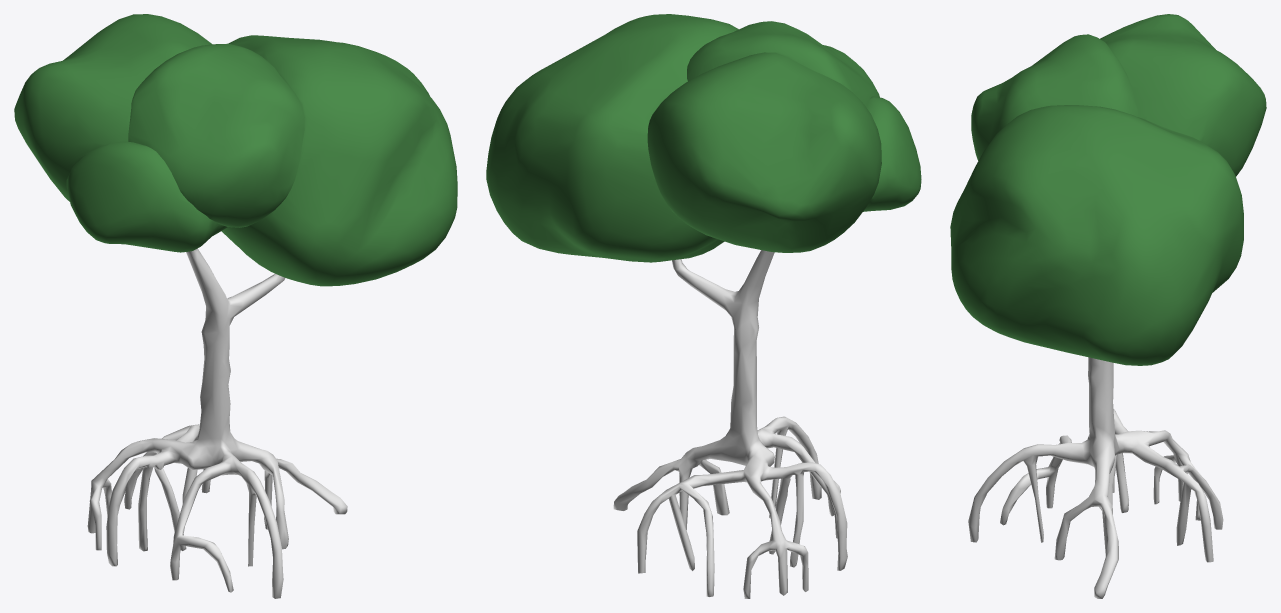
Rendered from mangrove_tree_2.fbx.
3 views of the same model, side by side, from view 1: azimuth 30°, elevation 25°; view 2: azimuth 150°, elevation 25°; view 3: azimuth 270°, elevation 25° (orthographic). The views are drawn at different scales.
Parts seen in each view (by area): view 1: tree_2_lo1; view 2: tree_2_lo1; view 3: tree_2_lo1.
Boxes of the visible parts, x1=… form: tree_2_lo1: x1=14, y1=14, x2=457, y2=598; tree_2_lo1: x1=486, y1=14, x2=921, y2=598; tree_2_lo1: x1=950, y1=14, x2=1266, y2=598.
Bounding box in the file's own units: 390 × 485 × 285.
